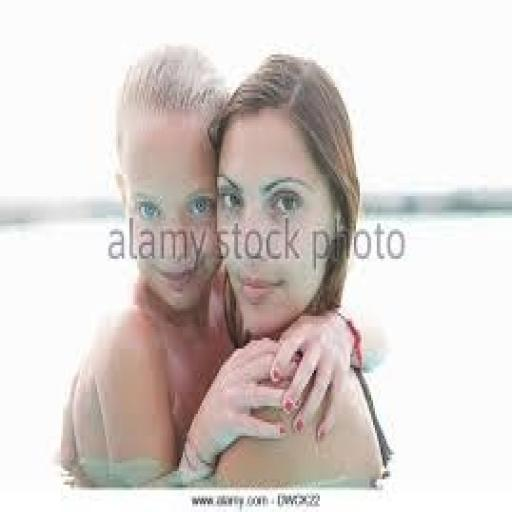hugging: (57, 41, 392, 487)
